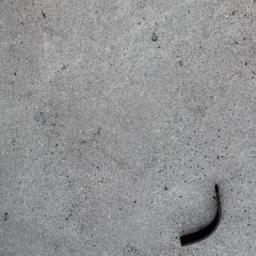FOD: (179, 183, 225, 250)
